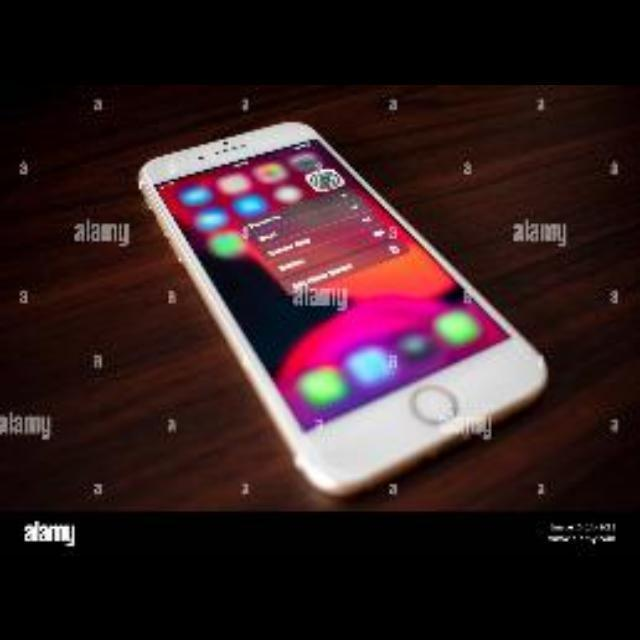phone: (112, 105, 588, 505)
